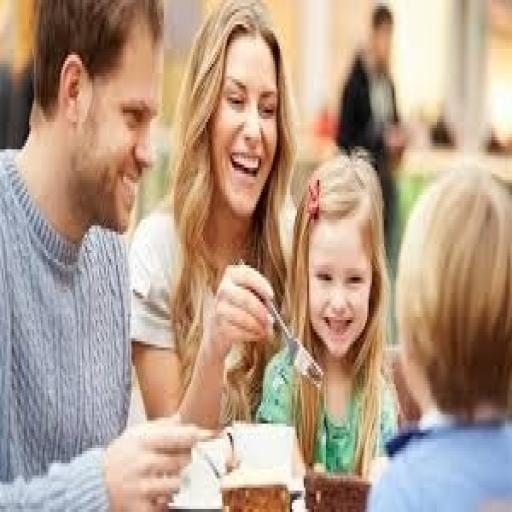eating: (0, 0, 212, 509), (128, 0, 300, 433), (364, 161, 510, 509), (254, 146, 403, 485)
